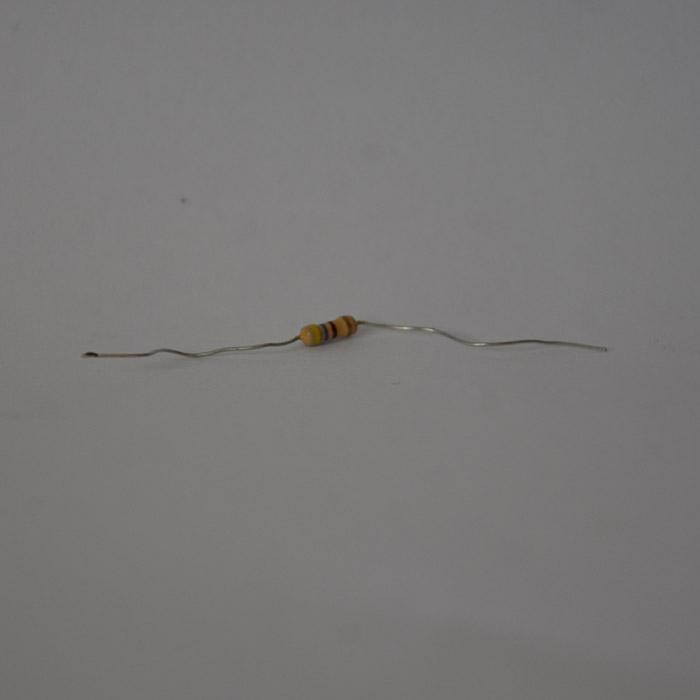resistor: (349, 295, 382, 356)
